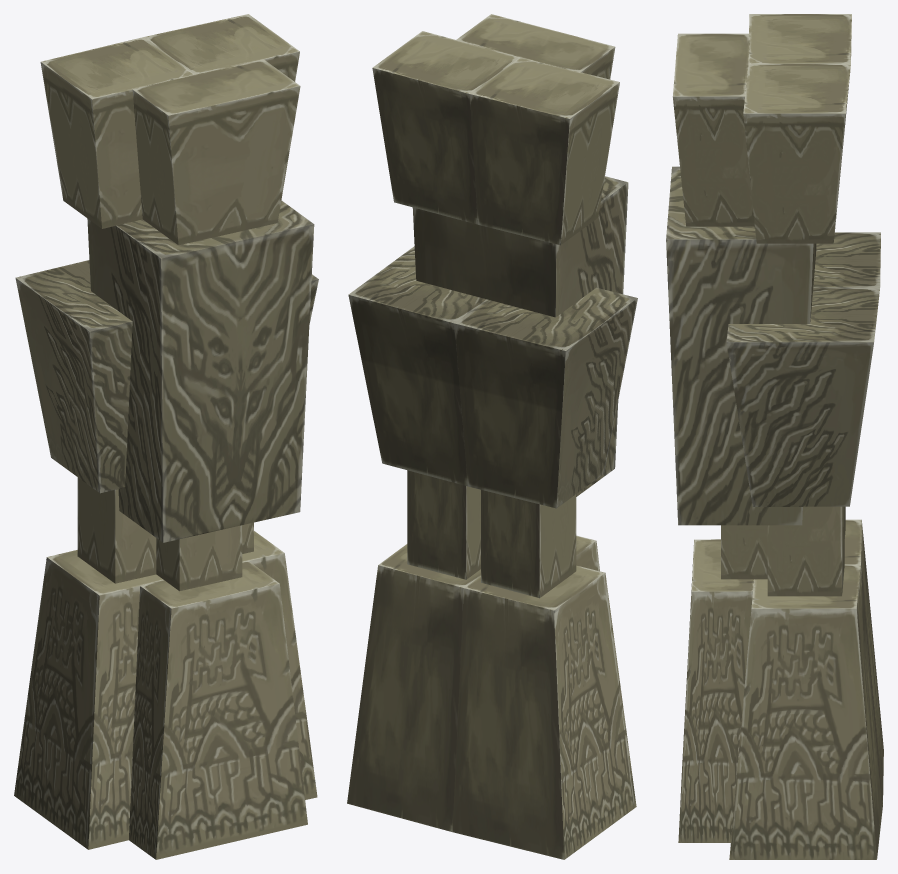
File: pillar.fbx
3 views of the same model, side by side, from view 1: azimuth 30°, elevation 25°; view 2: azimuth 150°, elevation 25°; view 3: azimuth 270°, elevation 25° (orthographic). The views are drawn at different scales.
Visible parts, largest first — view 1: polySurface105; view 2: polySurface105; view 3: polySurface105.
Boxes of the visible parts, x1,y1,x2,y2 form: polySurface105: [14, 14, 318, 859]; polySurface105: [347, 14, 637, 859]; polySurface105: [666, 14, 883, 859].
Bounding box in the file's own units: 0.6362 × 2 × 0.5327.
